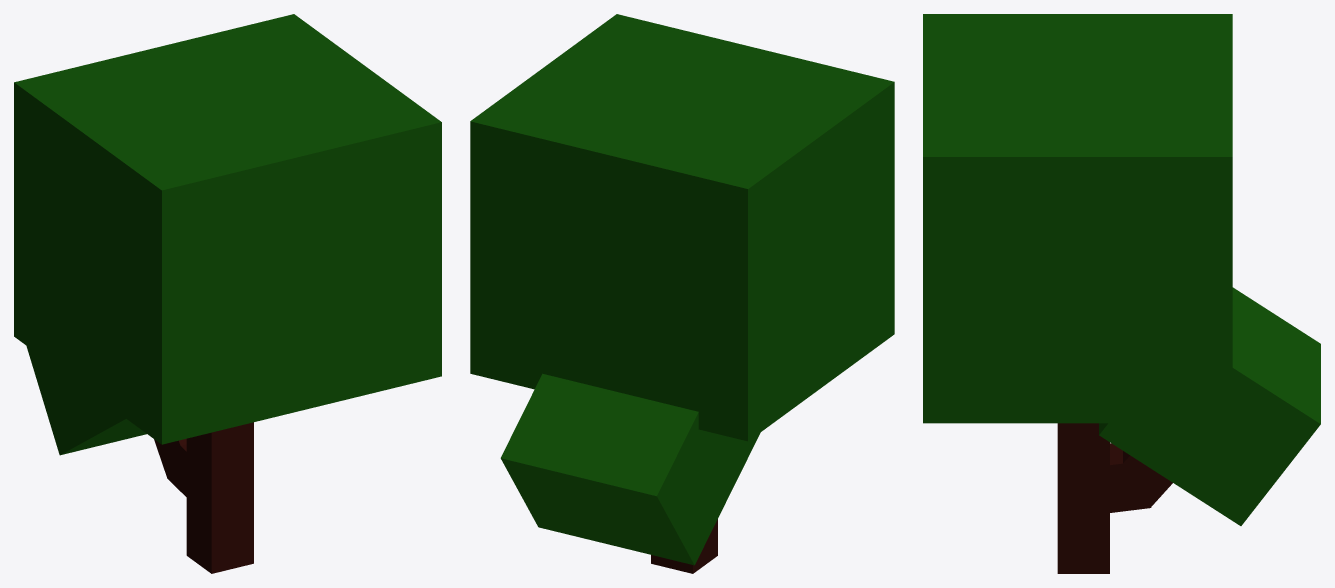
Rendered from tree4.fbx.
The picture shows the model from 3 angles, left to right: view 1: azimuth 30°, elevation 25°; view 2: azimuth 150°, elevation 25°; view 3: azimuth 270°, elevation 25°; orthographic projection. The views are drawn at different scales.
Parts seen in each view (by area): view 1: leves tree 4, trunk tree 4; view 2: leves tree 4, trunk tree 4; view 3: leves tree 4, trunk tree 4.
Boxes of the visible parts, x1=… form: leves tree 4: x1=14, y1=14, x2=441, y2=455; trunk tree 4: x1=154, y1=422, x2=253, y2=573; leves tree 4: x1=470, y1=14, x2=894, y2=565; trunk tree 4: x1=651, y1=519, x2=717, y2=573; leves tree 4: x1=923, y1=14, x2=1320, y2=525; trunk tree 4: x1=1057, y1=423, x2=1172, y2=573.
Size of the model in its own units: 470 by 734 by 552.
